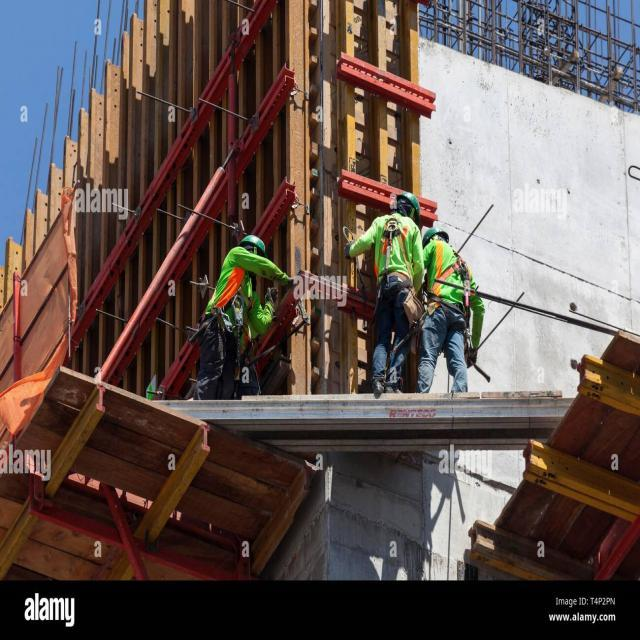belt: (196, 274, 265, 343), (422, 248, 474, 322), (374, 214, 418, 300)
